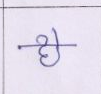e_matra: (48, 28, 65, 44)
